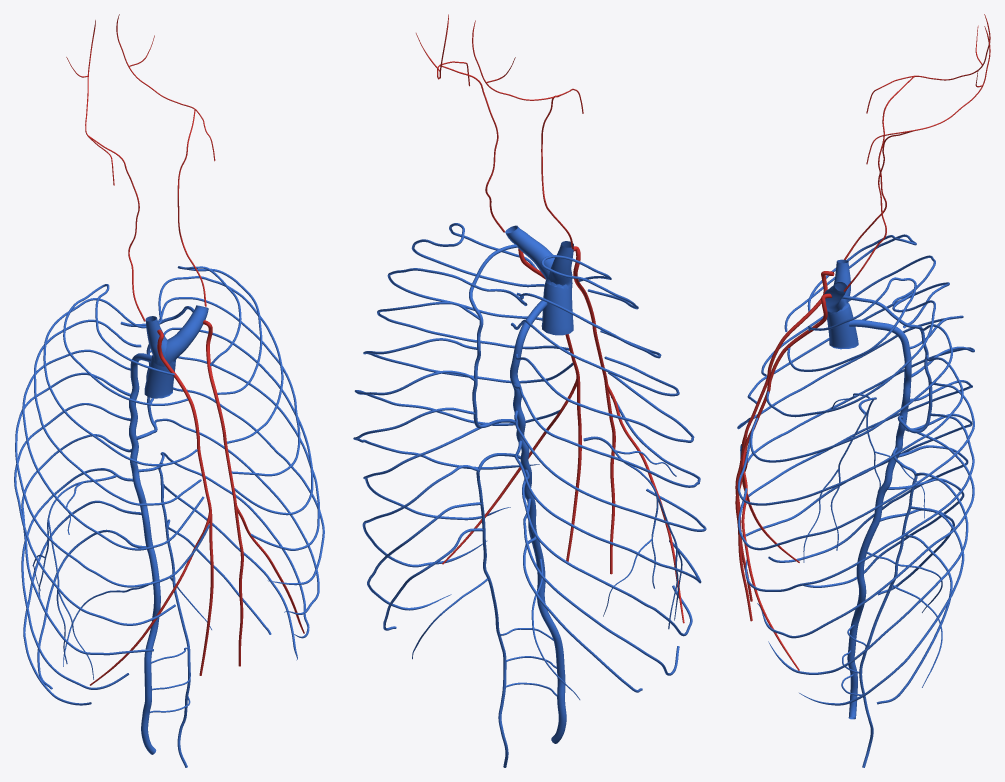
File: circulatorio-superior-vena-cava.glb
3 renders of one model, left to right at view 1: azimuth 30°, elevation 25°; view 2: azimuth 150°, elevation 25°; view 3: azimuth 270°, elevation 25°, orthographic. The views are drawn at different scales.
Visible parts, largest first — view 1: Right superior intercostal vein, Left superior intercostal vein, Azygos vein, Right ascending lumbar vein, Left brachiocephalic vein, Right superior phrenic vein, Superior vena cava, Internal thoracic veins.r, Internal thoracic veins.l, Left ascending lumbar vein, Right brachiocephalic vein, Superior epigastric veins.r (+2 smaller); view 2: Right superior intercostal vein, Left superior intercostal vein, Azygos vein, Right ascending lumbar vein, Superior vena cava, Right superior phrenic vein, Left brachiocephalic vein, Accessory hemi-azygos vein, Right brachiocephalic vein, Left ascending lumbar vein, Musculophrenic veins.r, Superior epigastric veins.l (+3 smaller); view 3: Left superior intercostal vein, Right superior intercostal vein, Azygos vein, Right ascending lumbar vein, Superior vena cava, Right superior phrenic vein, Accessory hemi-azygos vein, Internal thoracic veins.r, Internal thoracic veins.l, Left ascending lumbar vein, Musculophrenic veins.l, Left brachiocephalic vein (+3 smaller).
Boxes of the visible parts, x1,y1,x2,y2 form: Right superior intercostal vein: (14,284,210,705); Left superior intercostal vein: (120,266,324,660); Azygos vein: (129,353,159,584); Right ascending lumbar vein: (141,584,190,754); Left brachiocephalic vein: (152,305,208,366); Right superior phrenic vein: (32,475,116,679); Superior vena cava: (144,357,175,398); Internal thoracic veins.r: (157,329,211,510); Internal thoracic veins.l: (203,320,236,504); Left ascending lumbar vein: (172,569,190,767); Right brachiocephalic vein: (145,316,175,366); Superior epigastric veins.r: (199,510,213,675); Right superior intercostal vein: (511,255,706,692); Left superior intercostal vein: (353,223,573,630); Azygos vein: (510,300,547,561); Right ascending lumbar vein: (500,559,566,743); Superior vena cava: (541,282,573,335); Right superior phrenic vein: (583,436,682,629); Left brachiocephalic vein: (505,225,572,288); Accessory hemi-azygos vein: (469,244,518,428); Right brachiocephalic vein: (545,241,573,288); Left ascending lumbar vein: (483,569,508,767); Musculophrenic veins.r: (606,383,684,623); Superior epigastric veins.l: (566,376,581,561); Left superior intercostal vein: (737,277,974,705); Right superior intercostal vein: (737,234,974,595); Azygos vein: (848,319,911,556); Right ascending lumbar vein: (841,554,866,719); Superior vena cava: (827,305,858,349); Right superior phrenic vein: (803,393,924,562); Accessory hemi-azygos vein: (841,295,932,433); Internal thoracic veins.r: (744,271,834,433); Internal thoracic veins.l: (744,293,831,446); Left ascending lumbar vein: (859,576,895,767); Musculophrenic veins.l: (741,446,799,670); Left brachiocephalic vein: (824,282,849,313).
Size of the model in its own units: 0.2699 by 0.6731 by 0.2109.
